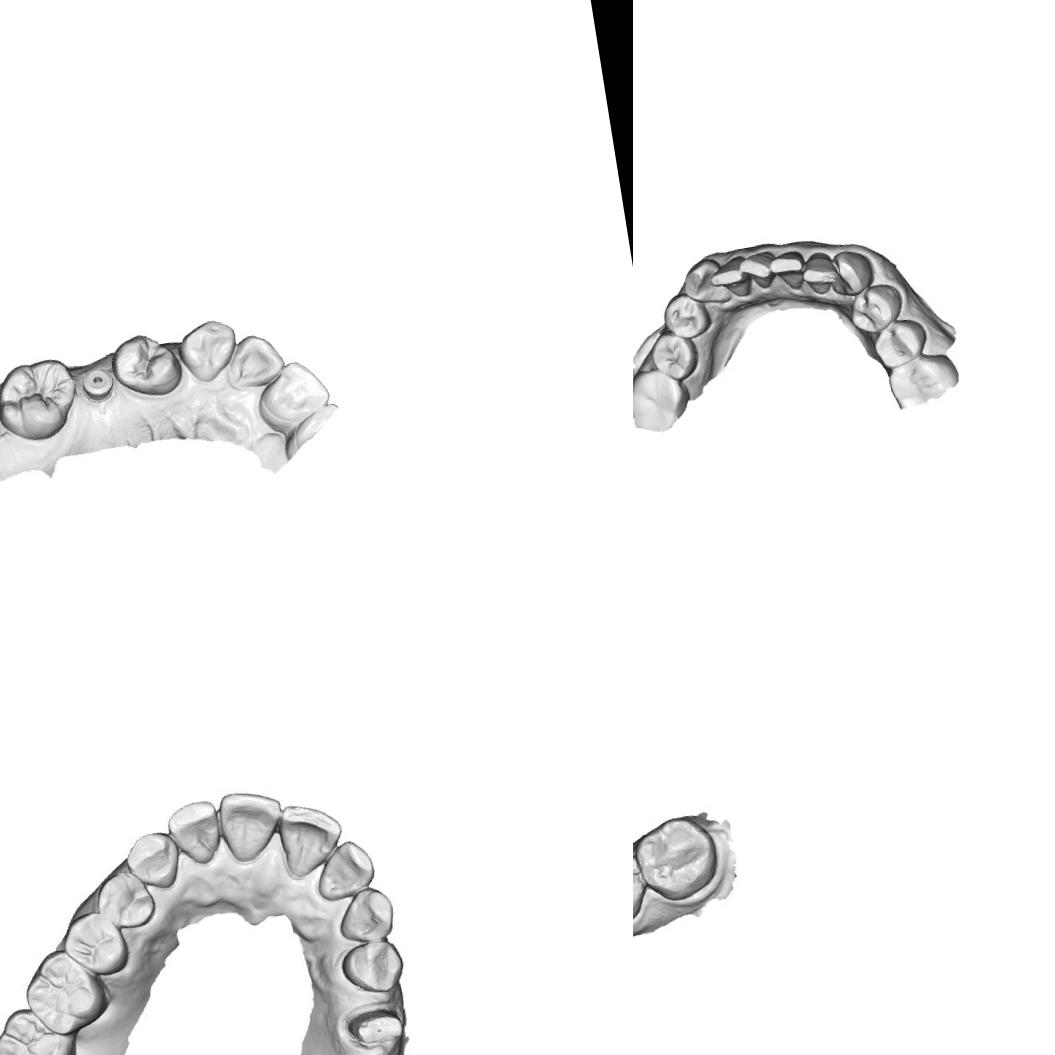canine: (173, 316, 242, 387), (334, 886, 400, 945), (128, 832, 182, 890), (678, 254, 732, 310), (826, 247, 878, 300)
crown: (344, 999, 413, 1055)
implant: (78, 363, 118, 408)
incisor: (249, 355, 335, 437), (218, 790, 286, 857), (277, 804, 341, 872), (222, 329, 288, 393), (170, 800, 224, 863), (312, 842, 369, 897), (706, 254, 752, 302), (798, 249, 841, 298), (766, 248, 810, 294), (737, 249, 780, 293)
molar: (0, 352, 84, 446), (633, 813, 723, 900), (26, 950, 110, 1034), (883, 348, 963, 412), (633, 361, 695, 435), (0, 1006, 76, 1055)
premolar: (106, 327, 186, 403), (337, 938, 408, 1000), (68, 911, 129, 975), (98, 868, 160, 928), (644, 326, 704, 386), (870, 314, 931, 372), (846, 280, 906, 338), (659, 289, 714, 343)
